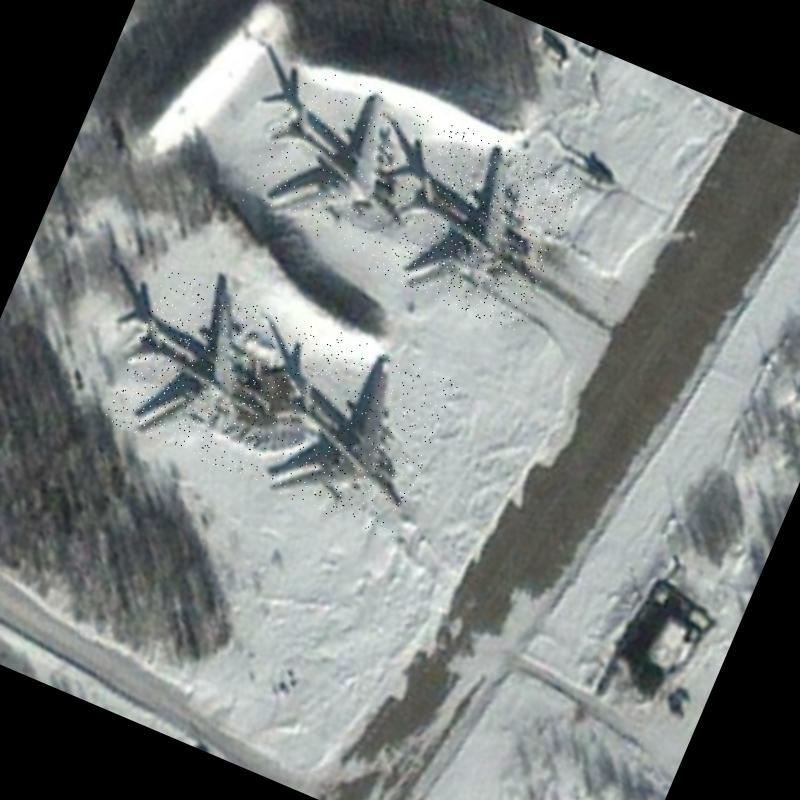A17: (366, 114, 586, 336), (244, 319, 460, 542), (104, 266, 316, 482), (240, 58, 450, 266)
